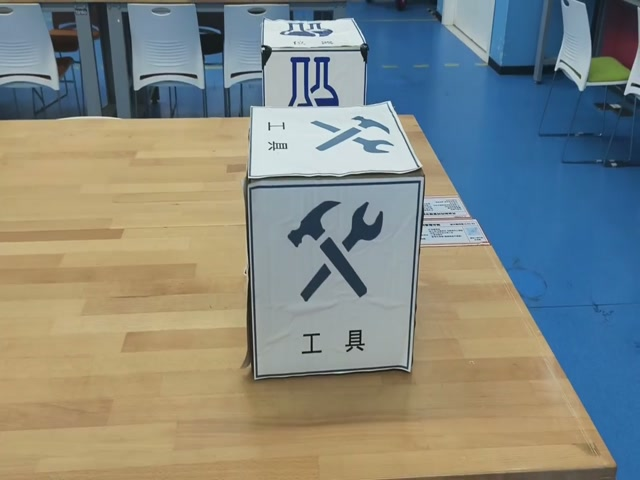Cube_ins: (262, 19, 367, 56)
Cube_tool: (246, 102, 424, 187)
